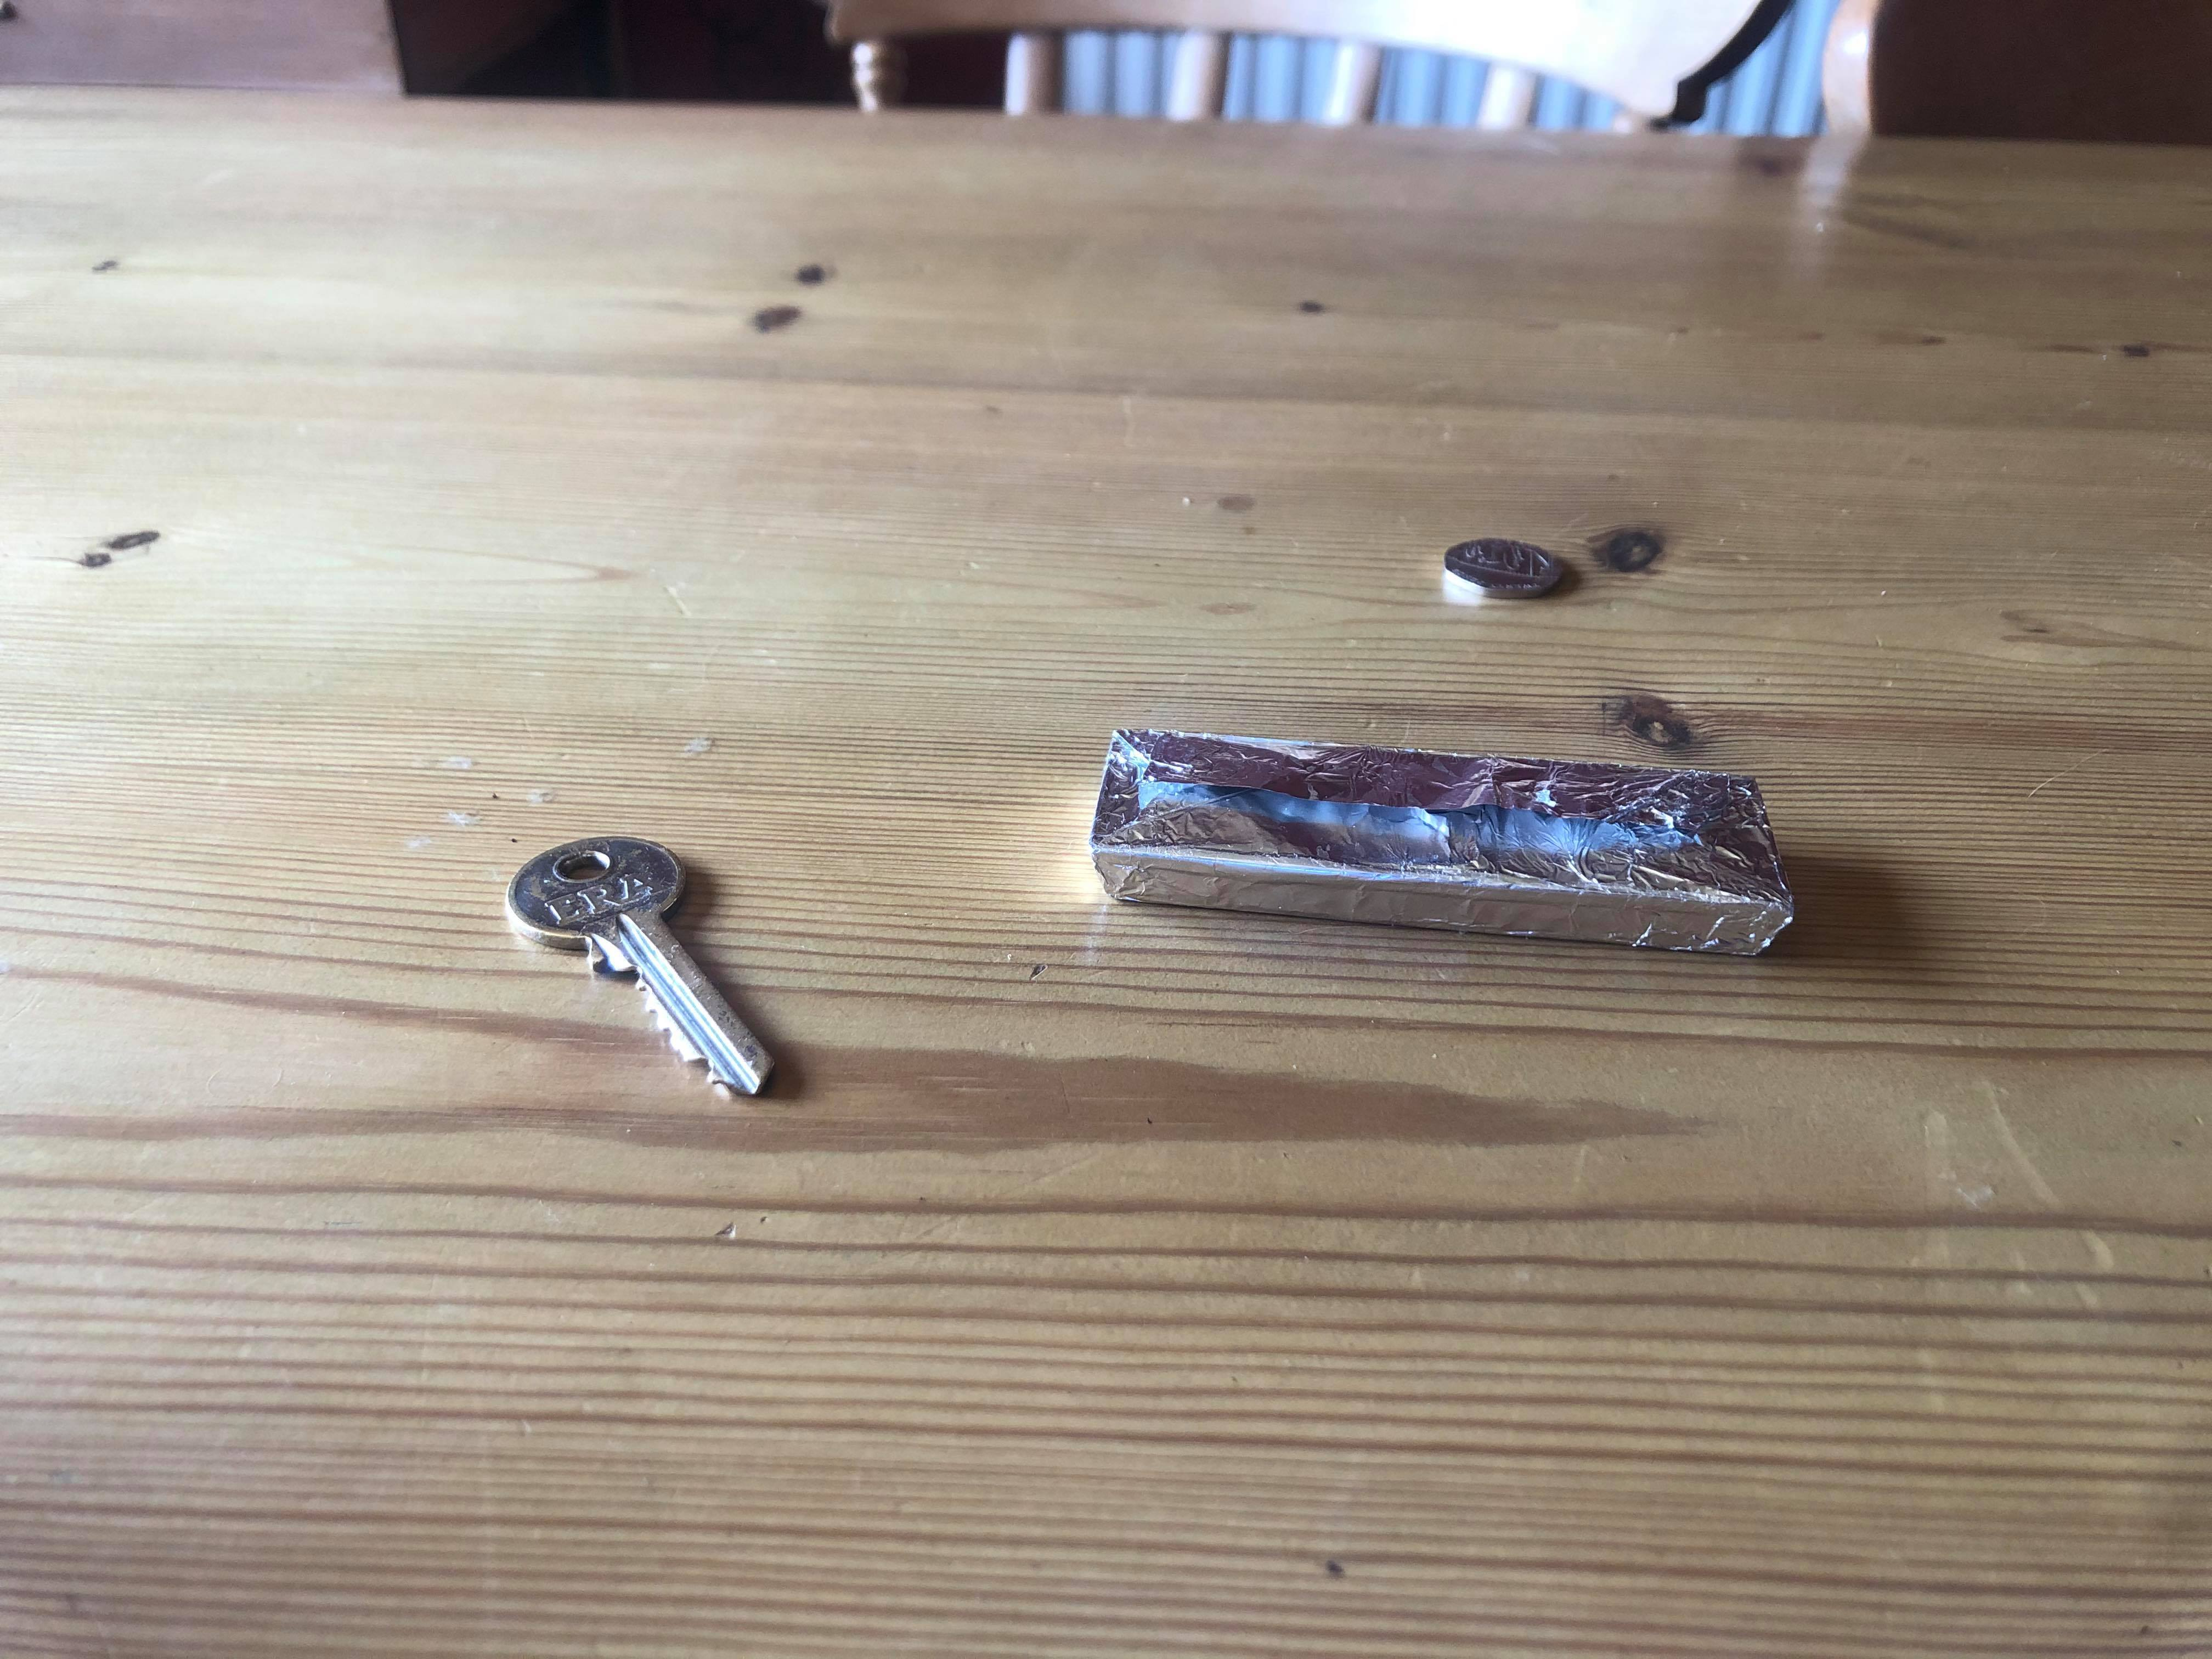Coin: (1435, 532, 1569, 608)
Foil: (1083, 721, 1801, 972)
Key: (500, 835, 784, 1108)
